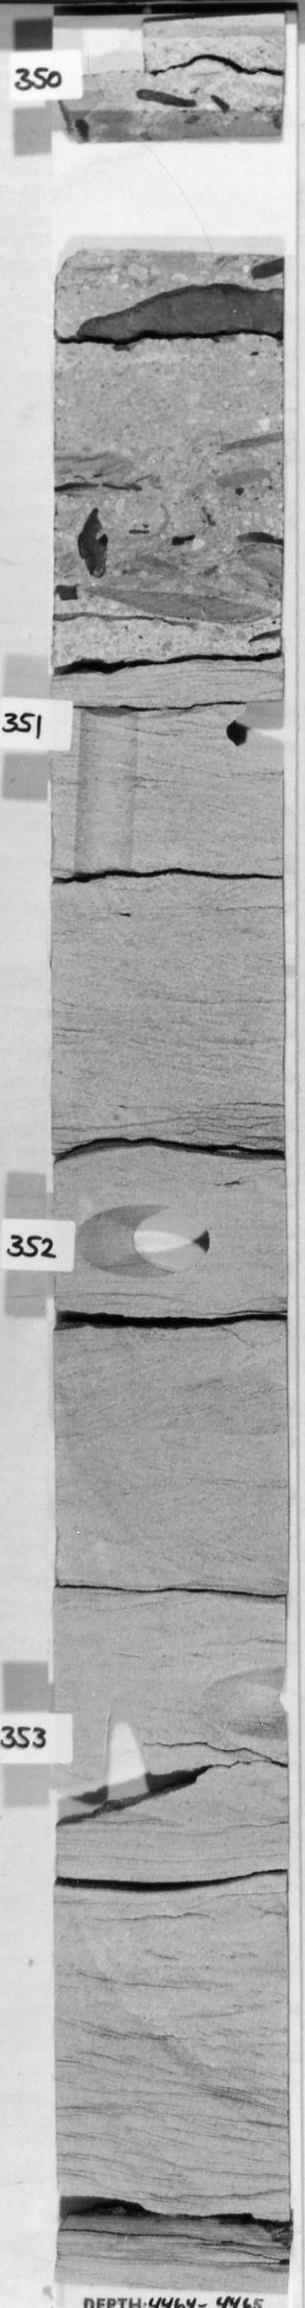hplug: (69, 1203, 217, 1281), (194, 1663, 286, 1744), (224, 698, 283, 776)
scal: (63, 105, 284, 266)
vplug: (71, 701, 147, 874), (91, 1688, 166, 1824), (69, 18, 159, 88)
